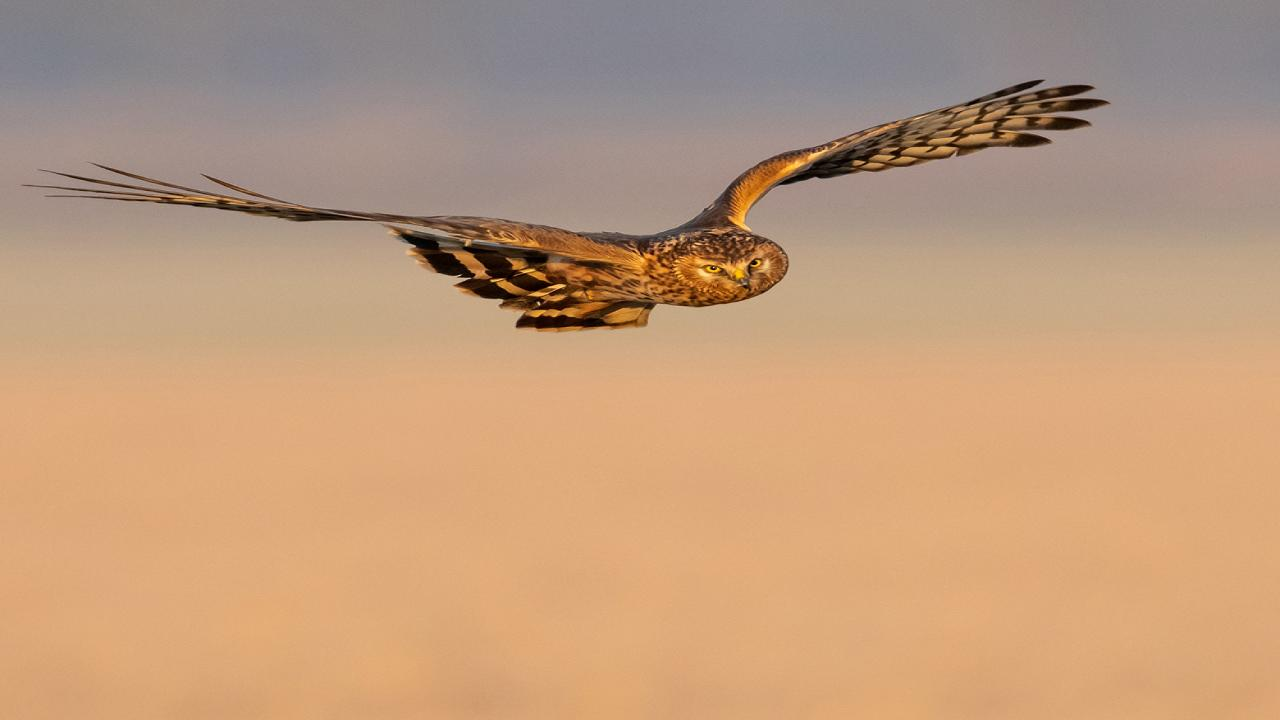Bird: (10, 61, 1118, 343)
